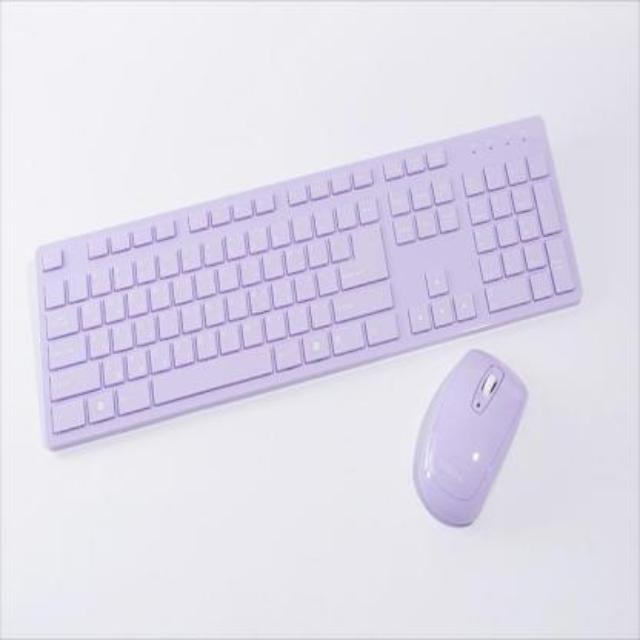Computer-Keyboard: (14, 107, 596, 430)
Computer-Mouse: (402, 340, 538, 534)
